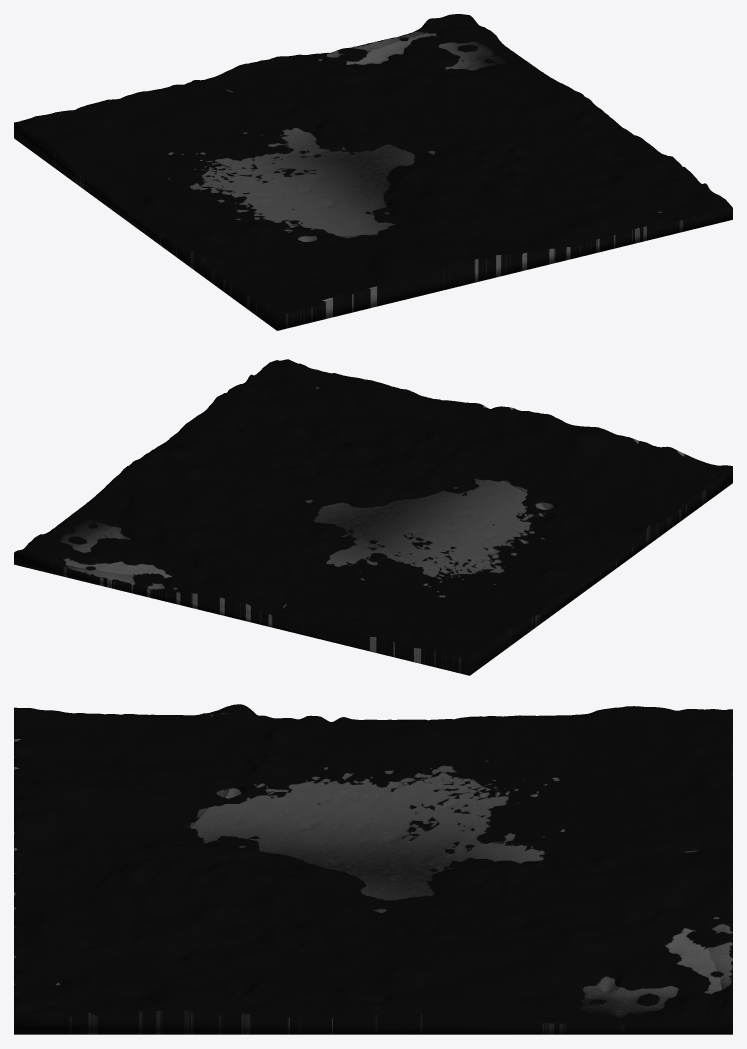
File: apollo16_site.glb
The picture shows the model from 3 angles, top to bottom: view 1: azimuth 30°, elevation 25°; view 2: azimuth 150°, elevation 25°; view 3: azimuth 270°, elevation 25°; orthographic projection. The views are drawn at different scales.
Visible parts, largest first — view 1: apollo16_site; view 2: apollo16_site; view 3: apollo16_site.
Boxes of the visible parts, x1,y1,x2,y2 form: apollo16_site: [14, 14, 732, 330]; apollo16_site: [14, 359, 732, 675]; apollo16_site: [14, 704, 732, 1034].
Bounding box in the file's own units: 1 × 0.0566 × 1.
Materials: 1 (1 with a texture image).
